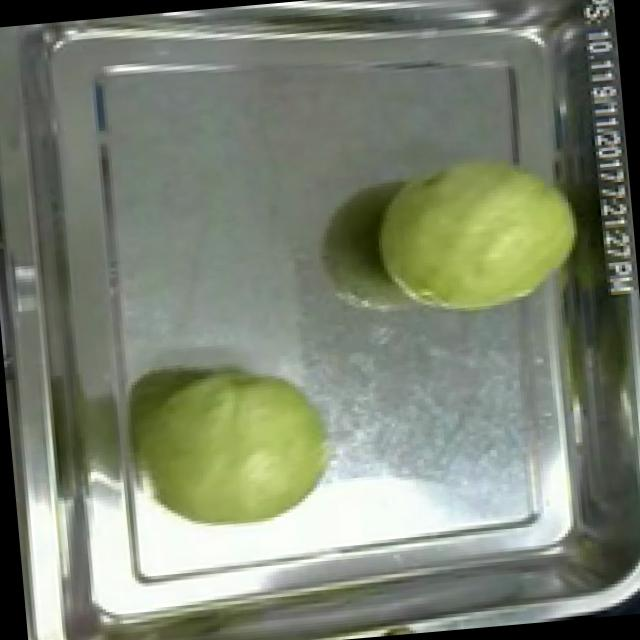Fruit: (360, 137, 589, 331), (125, 348, 342, 548)
